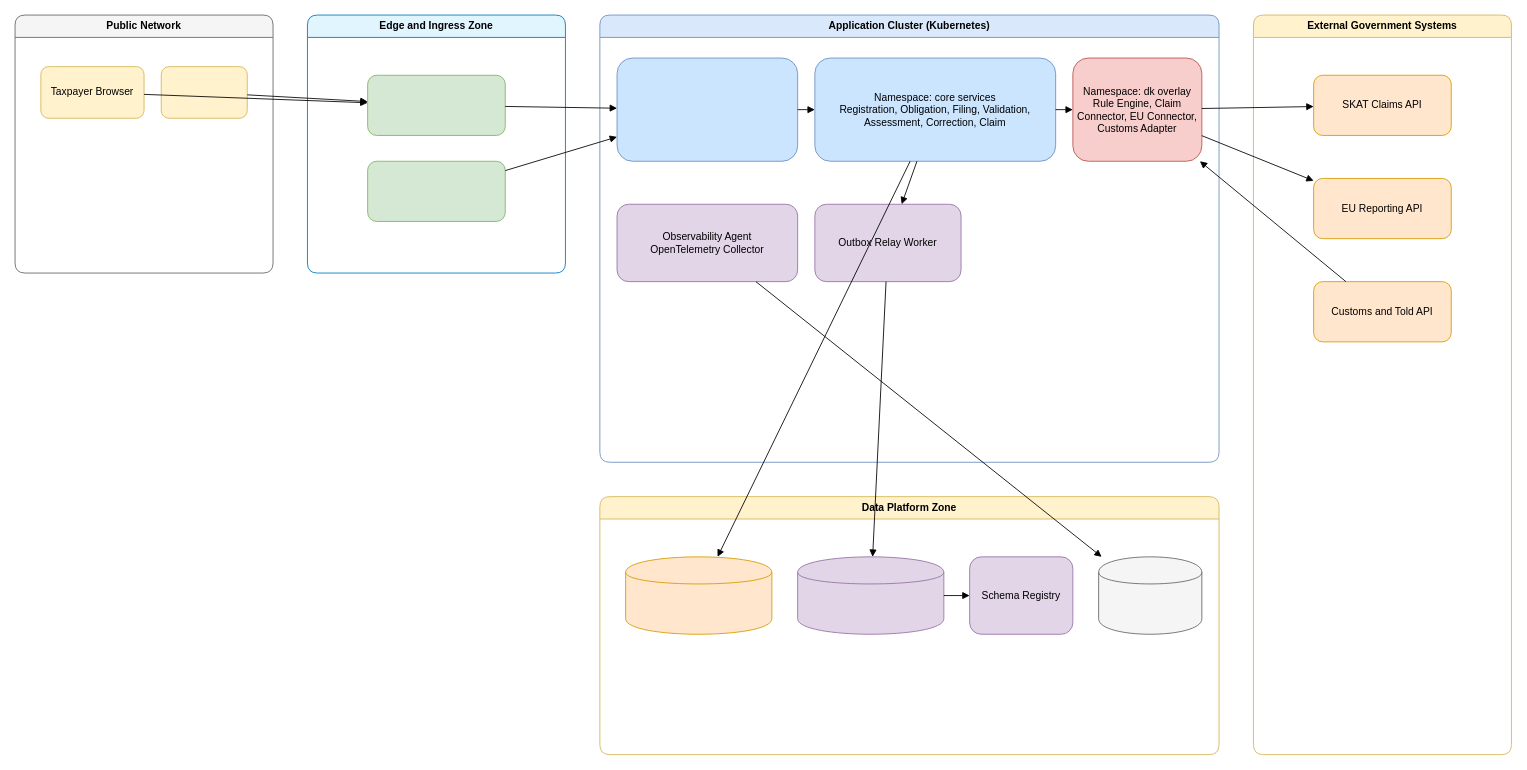
The diagram is 1527 pixels wide and 770 high, and some of its shapes have lost their labels. Each missing label, with the centre of its shape:
"ERP Client" belongs at (203,92).
"Identity Provider" belongs at (436,190).
"Kafka Cluster and DLQ" belongs at (870,595).
"Managed PostgreSQL (HA)" belongs at (698,595).
"Namespace: ingress and bff Portal BFF, API Gateway" belongs at (707,109).
"Object Storage and Iceberg" belongs at (1150,595).
"WAF and API Ingress" belongs at (436,104).
